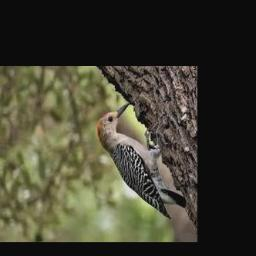Woodpecker: (97, 102, 187, 220)
